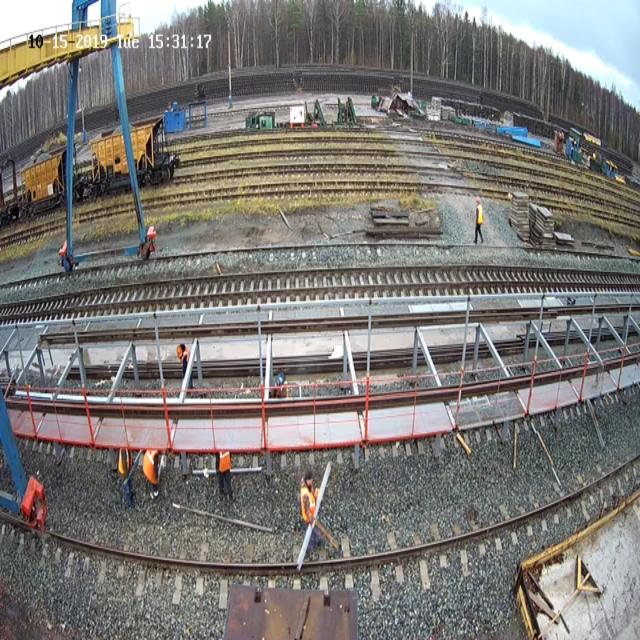Helmet: (176, 345, 184, 358), (476, 197, 480, 203)
Person: (301, 465, 324, 536), (118, 446, 134, 508), (217, 449, 234, 503), (176, 343, 194, 394), (143, 448, 160, 499), (473, 196, 484, 244), (273, 371, 287, 399)
